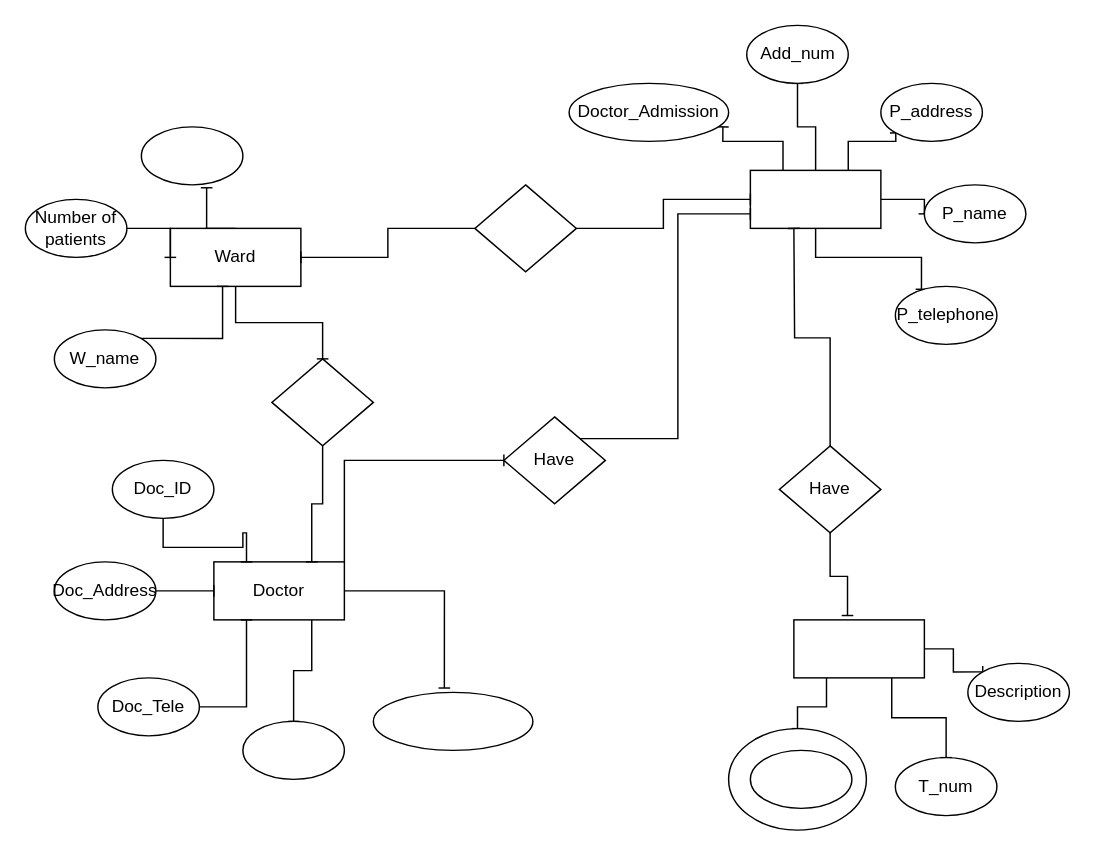
Some shapes in this 1095 by 856 pixel diagram are drawn without their labels. The shapes that lost their labels are listed below. From the top down, each one's box as (x1, y1, x2, y2) in pixels, then its label:
(140, 125, 243, 185): W number
(749, 169, 881, 228): Patient
(473, 183, 576, 272): Host
(270, 357, 373, 446): Treat
(792, 618, 924, 678): Treatment
(372, 691, 533, 750): Doc_specialization
(241, 720, 344, 779): Doc_name
(749, 749, 852, 808): Dosage
